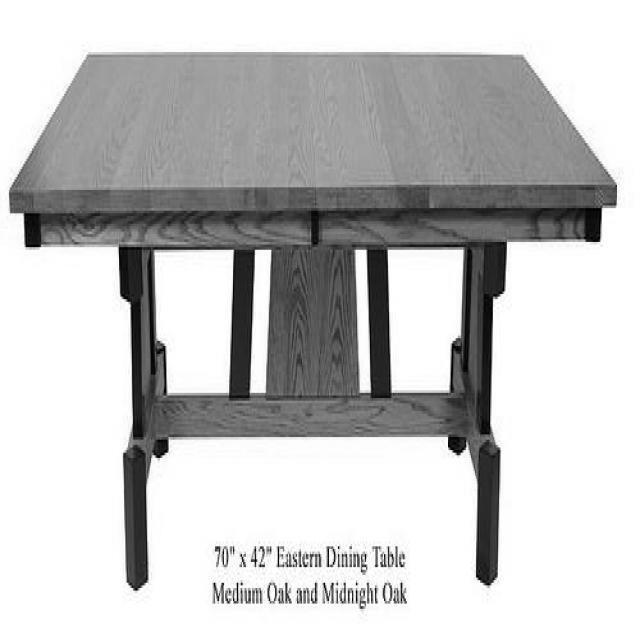table: (9, 50, 618, 585)
